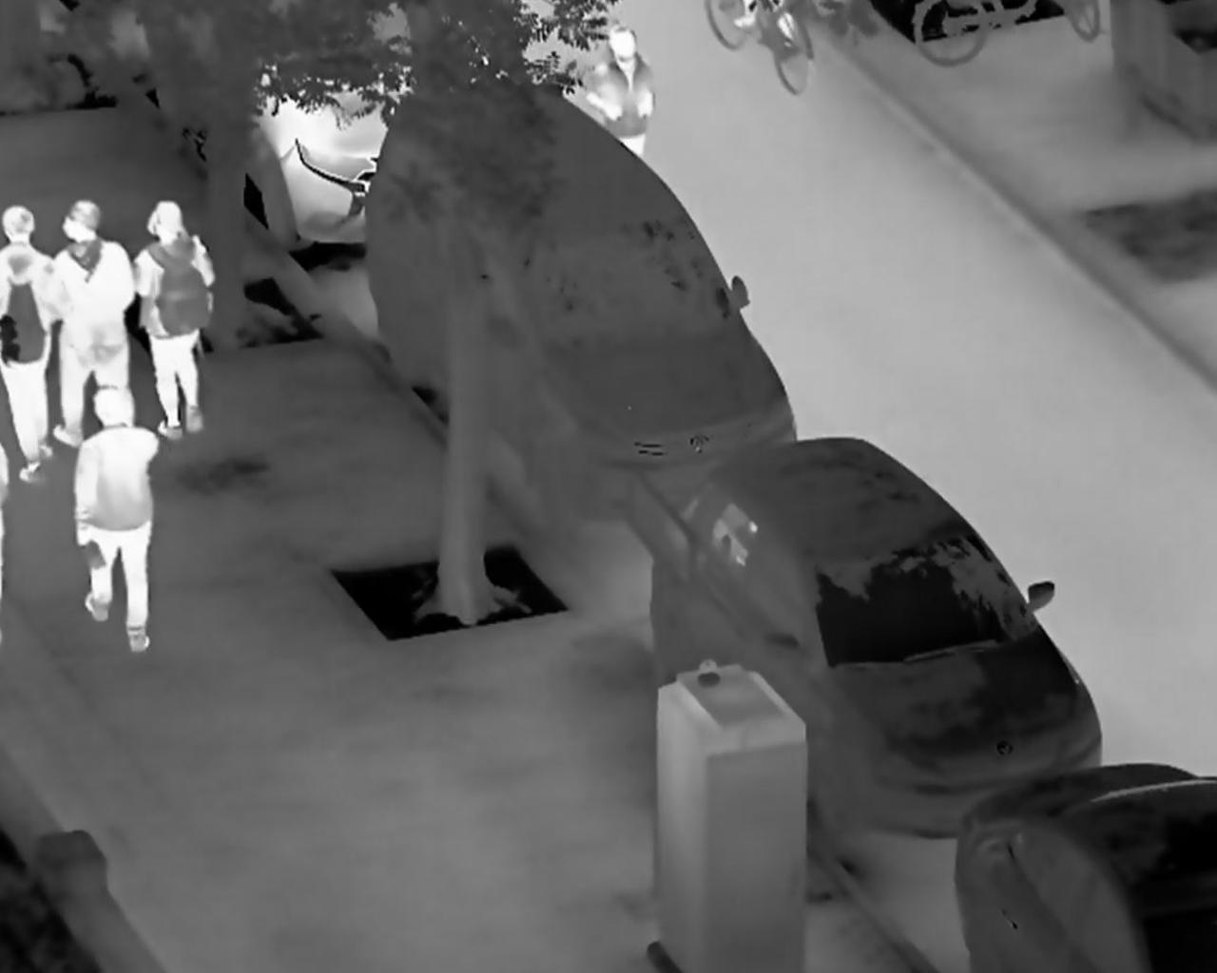person: (70, 386, 159, 652), (51, 196, 139, 443), (134, 197, 219, 442), (575, 24, 654, 161)
